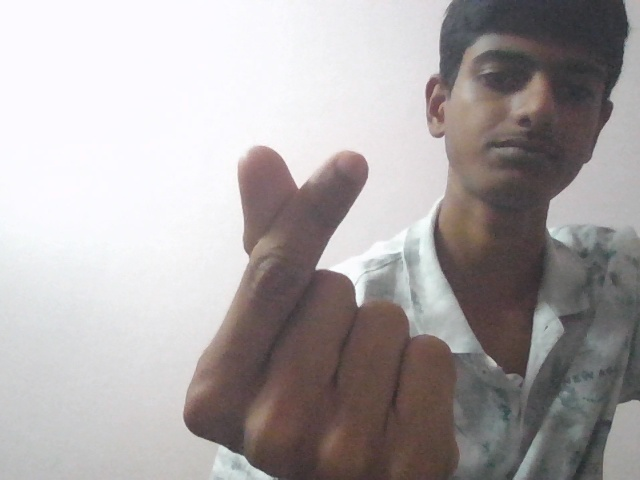iloveyou: (160, 139, 461, 480)
